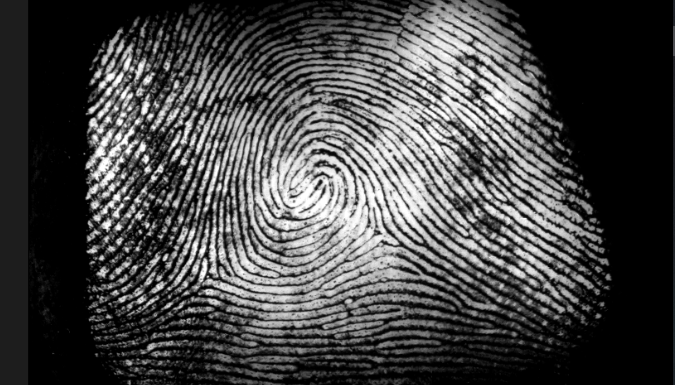deltas: (173, 230, 249, 300), (350, 197, 408, 262)
nucleo: (279, 155, 349, 224)
